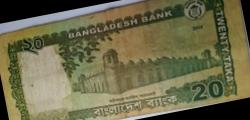20 taka: (12, 1, 240, 119)
